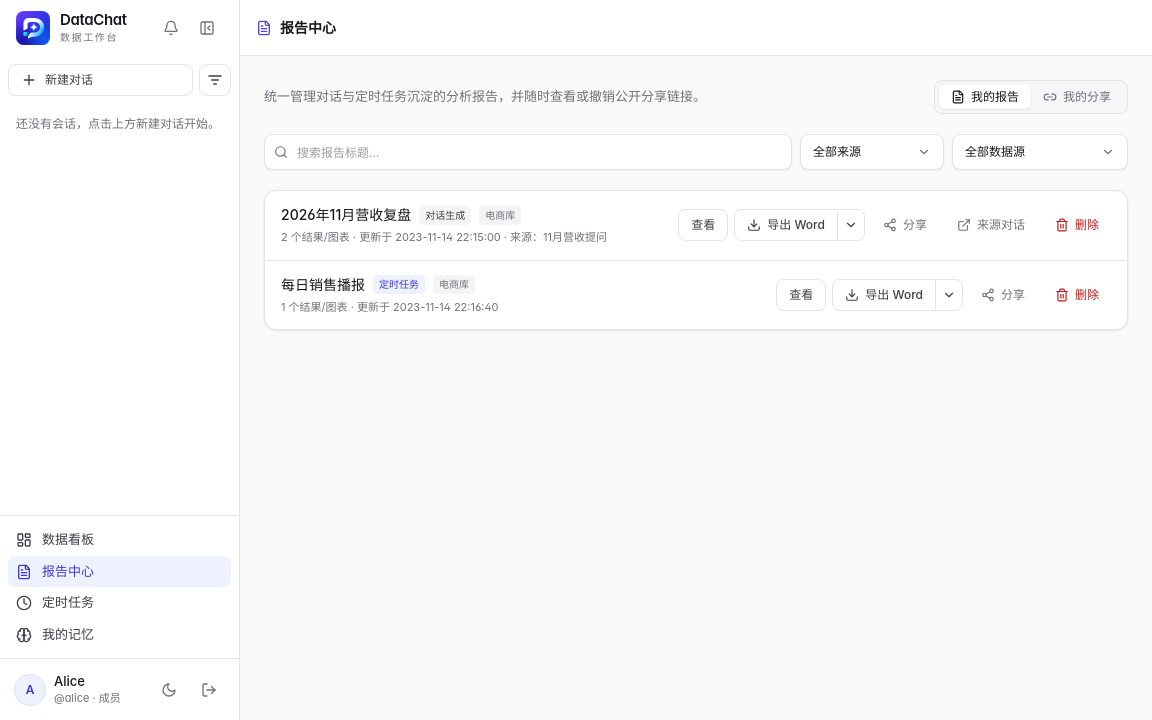
Test: ReportsPage › switches to 我的分享 tab and revokes an active share
The image size is (1152, 720).
Expected: the link "2026年11月营收复盘" is shown, [281,205,411,225]
Click the tab "我的分享" at x=1077, y=97, box [1031,85,1123,109]
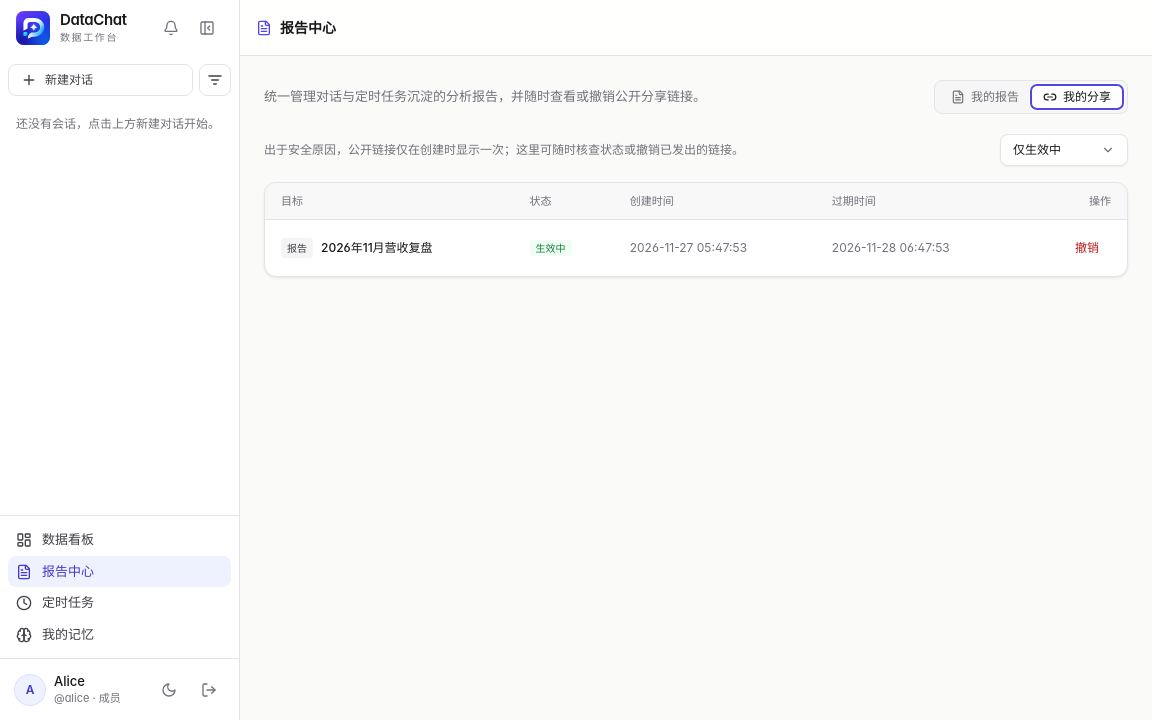
Expected: the text "生效中" is shown, [530,240,572,256]
Click the button "撤销" at x=1087, y=248, box [1063,232,1111,264]
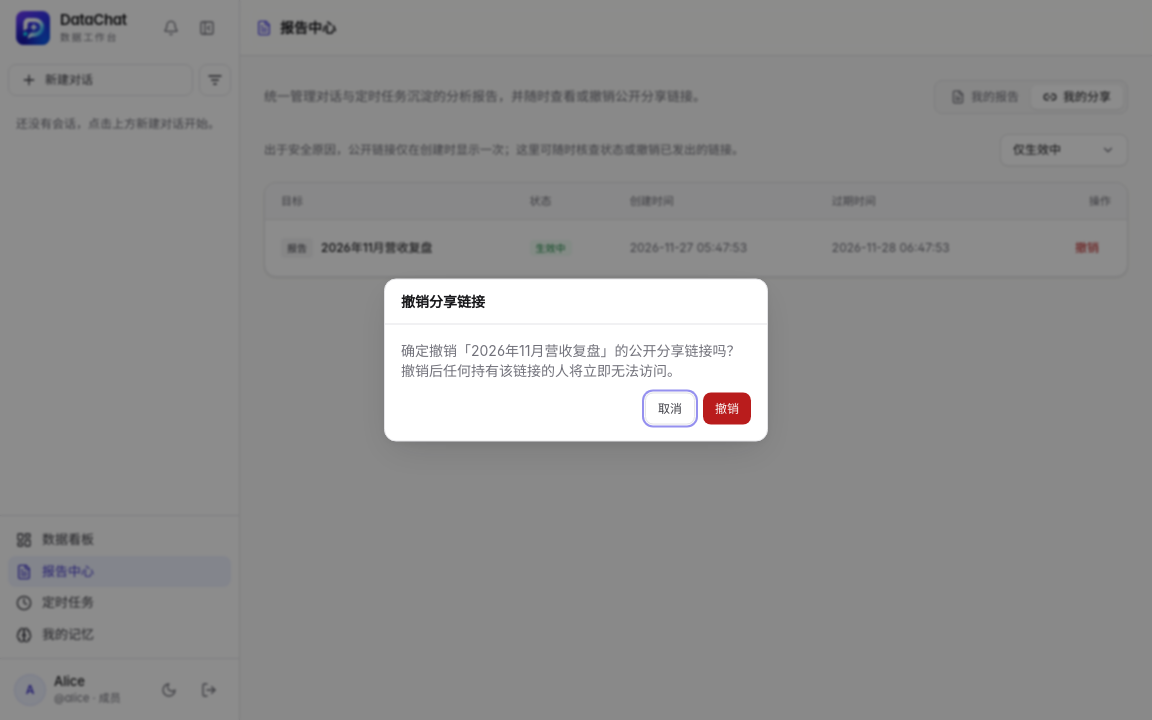
Expected: the heading "撤销分享链接" is shown, [401,292,485,310]
Click the button "撤销" at x=727, y=408, box [703,392,751,424]
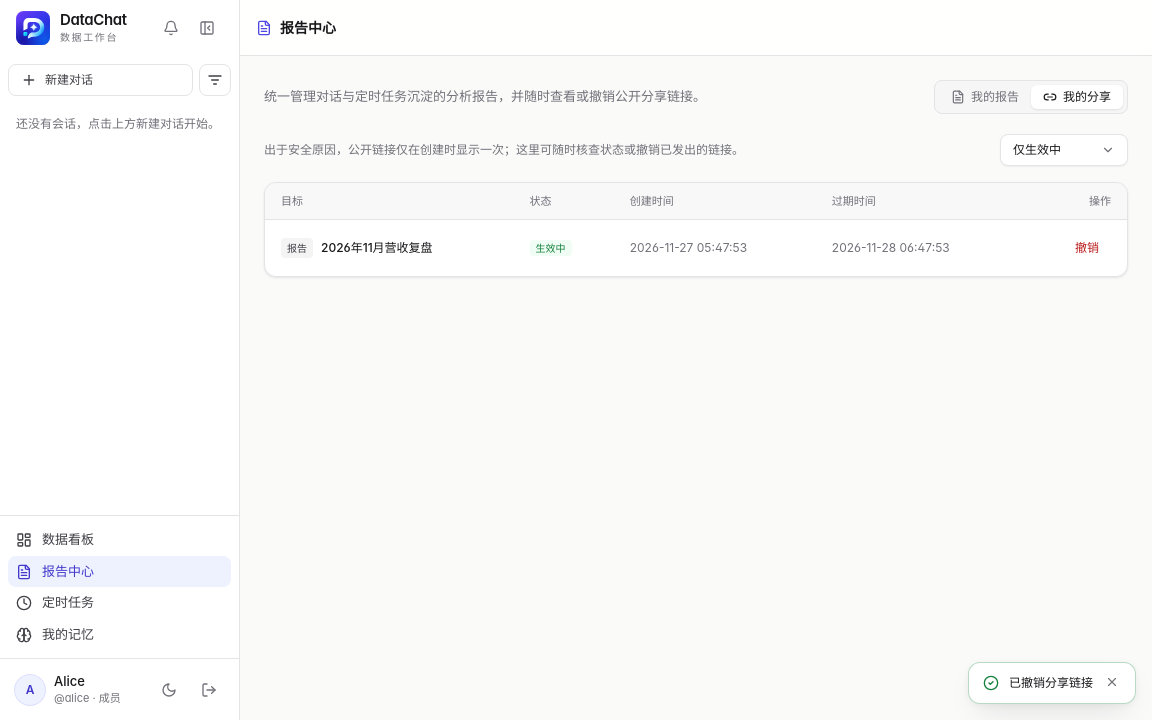
Expected: the text "已撤销分享链接" is shown, [1009,673,1093,693]
